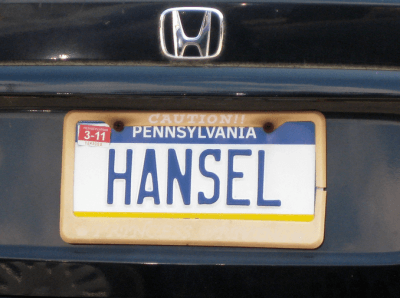license plate: (72, 119, 317, 224)
